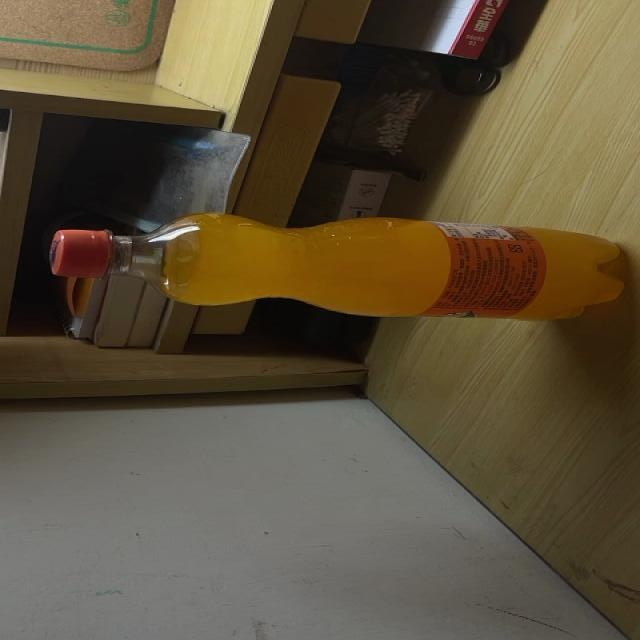Fanta: (46, 213, 625, 321)
